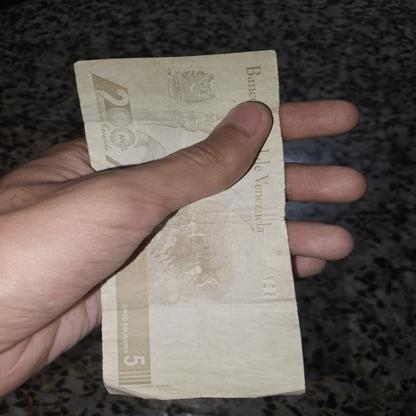five-back-vef: (72, 49, 306, 400)
